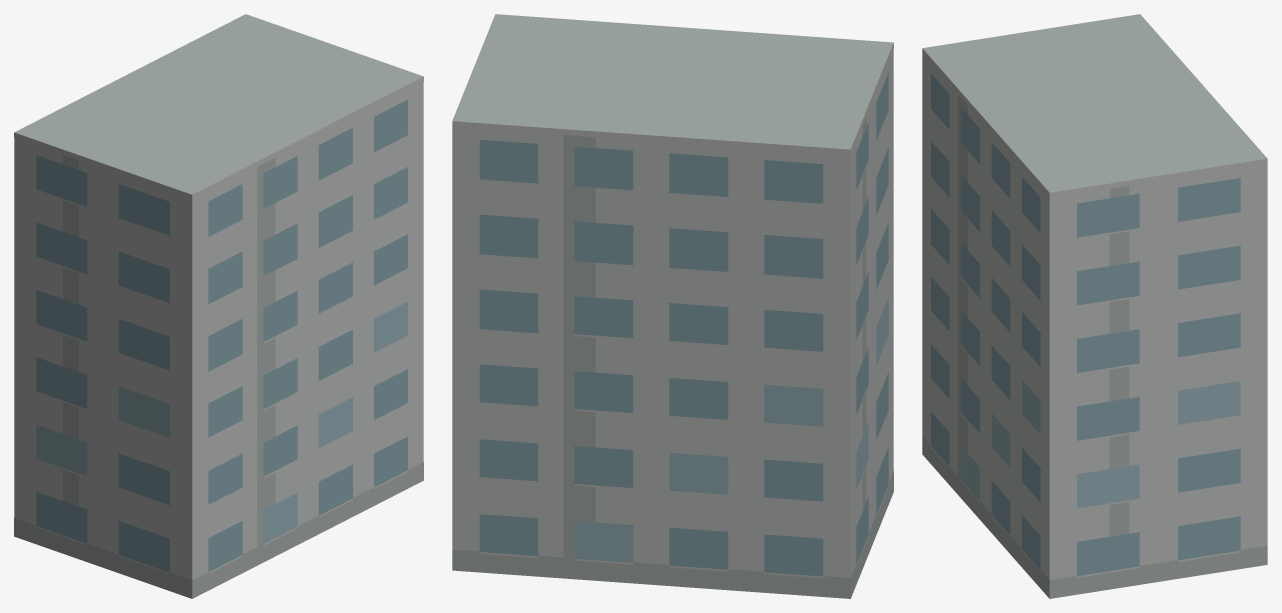
File: survey-upis-32944748.glb
3 views of the same model, side by side, from view 1: azimuth 30°, elevation 25°; view 2: azimuth 150°, elevation 25°; view 3: azimuth 270°, elevation 25° (orthographic). The views are drawn at different scales.
Parts seen in each view (by area): view 1: survey-upis-32944748.tmp; view 2: survey-upis-32944748.tmp; view 3: survey-upis-32944748.tmp.
Part boxes in pixels (x1=…): survey-upis-32944748.tmp: x1=14, y1=14, x2=423, y2=598; survey-upis-32944748.tmp: x1=452, y1=14, x2=893, y2=598; survey-upis-32944748.tmp: x1=922, y1=14, x2=1267, y2=598.
Bounding box in the file's own units: 17.29 × 18.3 × 14.11.
